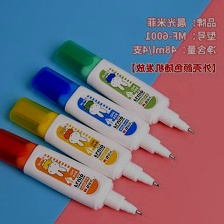correction_fluid: (6, 95, 163, 190), (26, 64, 178, 161), (50, 37, 197, 135), (0, 125, 146, 217)
